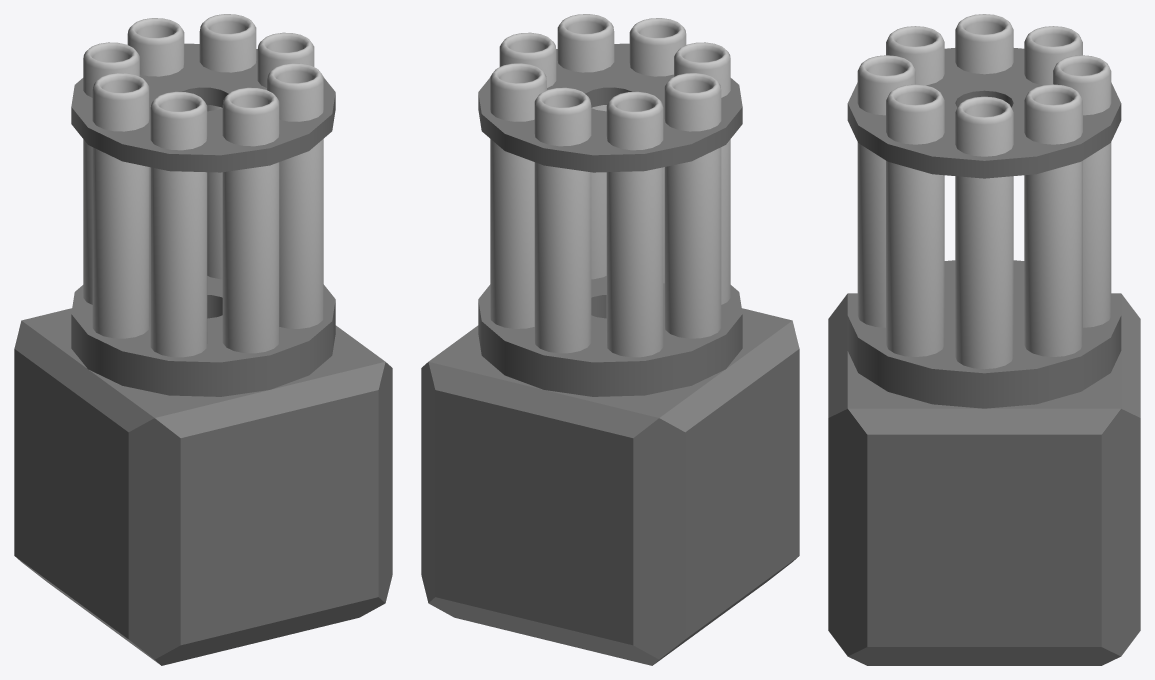
File: Minigun.fbx
3 views of the same model, side by side, from view 1: azimuth 30°, elevation 25°; view 2: azimuth 150°, elevation 25°; view 3: azimuth 270°, elevation 25° (orthographic). The views are drawn at different scales.
Visible parts, largest first — view 1: BOX, BARRELS; view 2: BOX, BARRELS; view 3: BARRELS, BOX.
Boxes of the visible parts, x1,y1,x2,y2 form: BOX: [14, 308, 392, 665]; BARRELS: [71, 14, 335, 396]; BOX: [421, 308, 799, 665]; BARRELS: [478, 14, 742, 396]; BARRELS: [847, 14, 1121, 408]; BOX: [828, 293, 1140, 665].
Bounding box in the file's own units: 160 × 160 × 311.
Materials: 2 (2 with a texture image).
